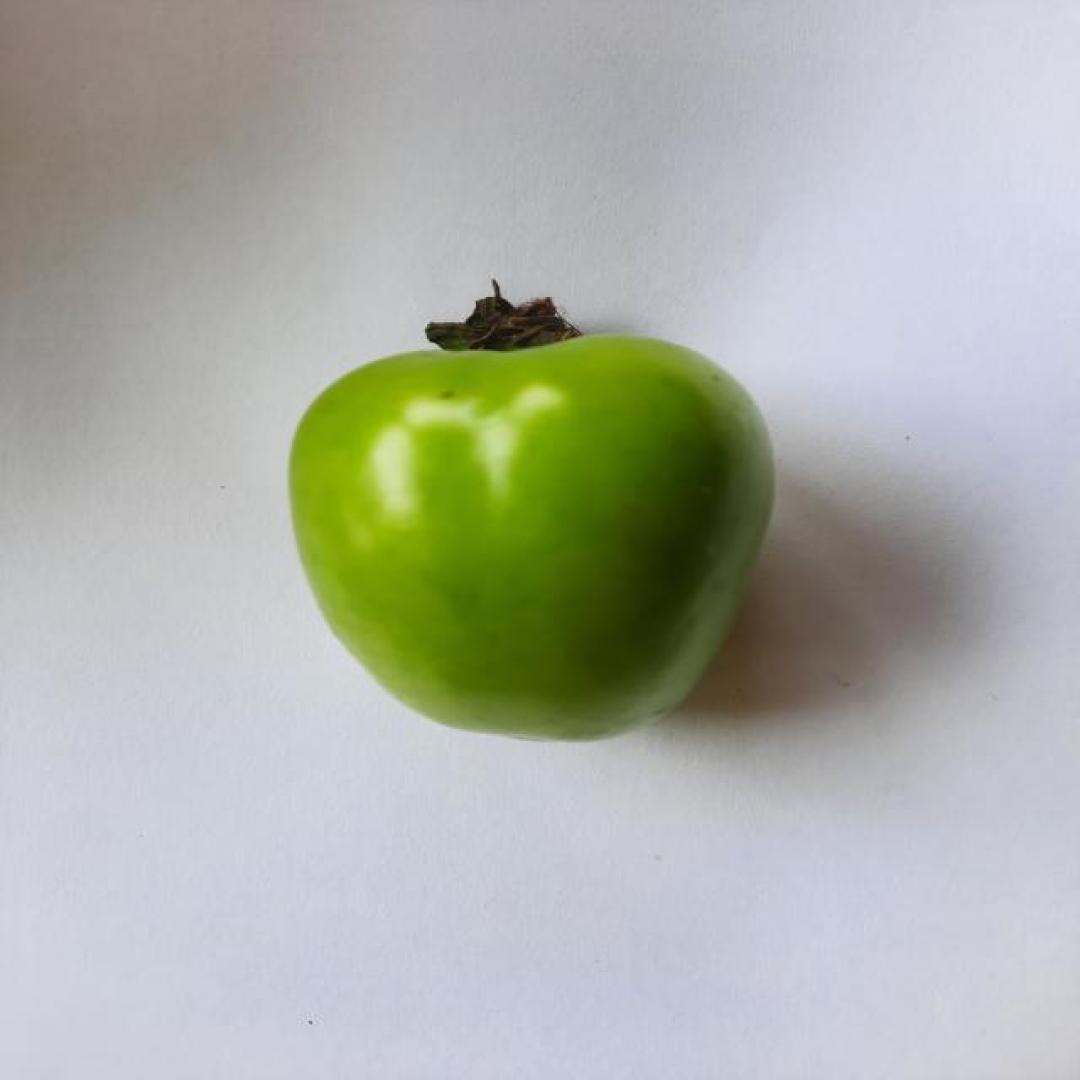mentah: (285, 278, 780, 744)
